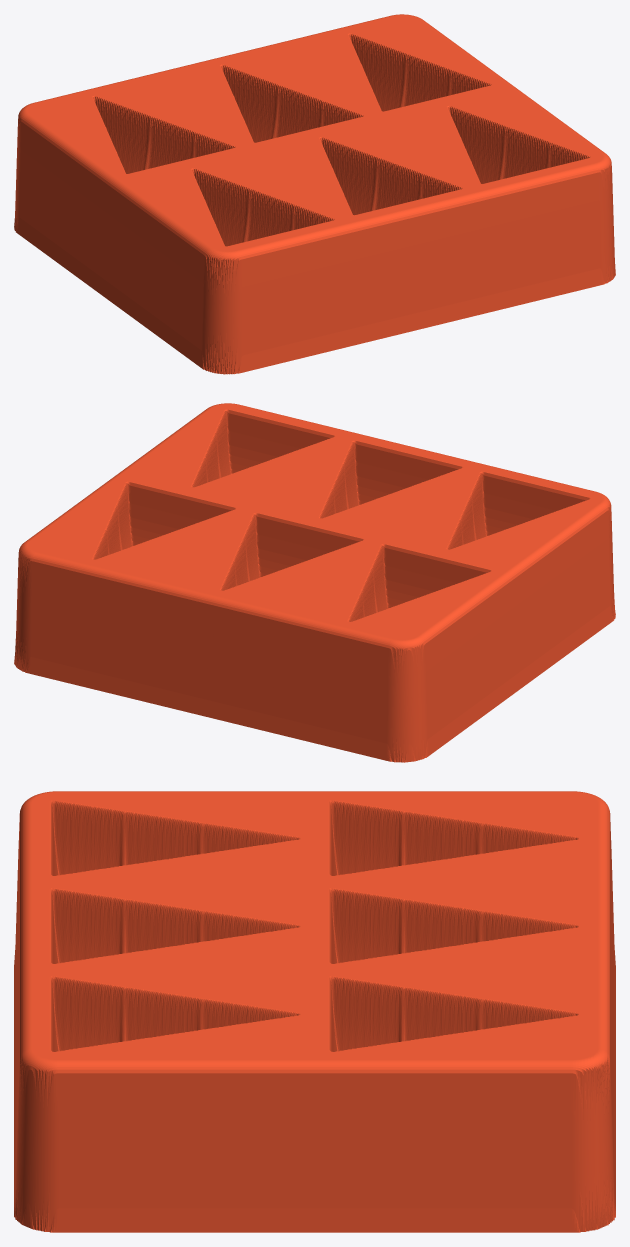
Rendered from mold.glb.
The picture shows the model from 3 angles, top to bottom: view 1: azimuth 30°, elevation 25°; view 2: azimuth 150°, elevation 25°; view 3: azimuth 270°, elevation 25°; orthographic projection. The views are drawn at different scales.
Visible parts, largest first — view 1: geometry_0; view 2: geometry_0; view 3: geometry_0.
Boxes of the visible parts, x1=… form: geometry_0: x1=14, y1=14, x2=615, y2=374; geometry_0: x1=14, y1=403, x2=615, y2=762; geometry_0: x1=14, y1=791, x2=615, y2=1232.
Size of the model in its own units: 0.1384 by 0.0377 by 0.1246.
